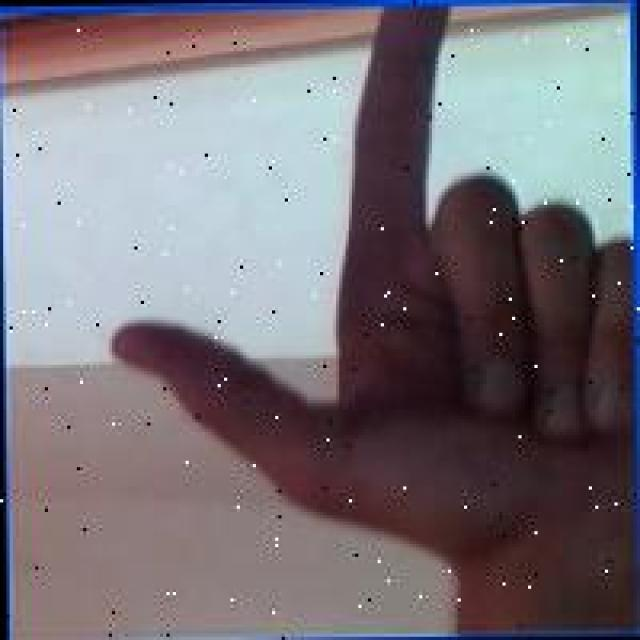L: (98, 3, 635, 560)
